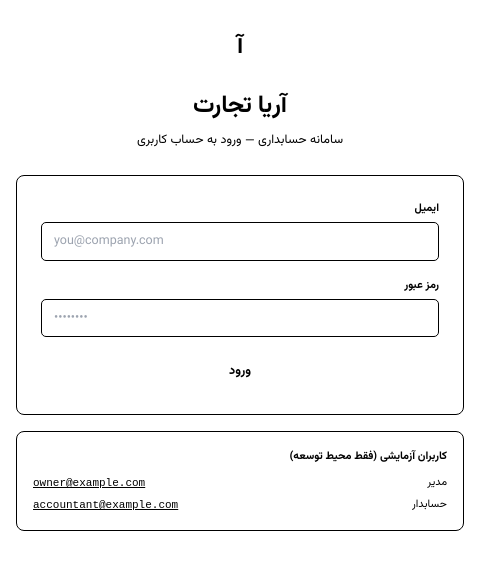
Scenario: login page › shows validation error when fields are empty
Click the button "ورود" at {"x": 240, "y": 372}, box [41,353,439,390]
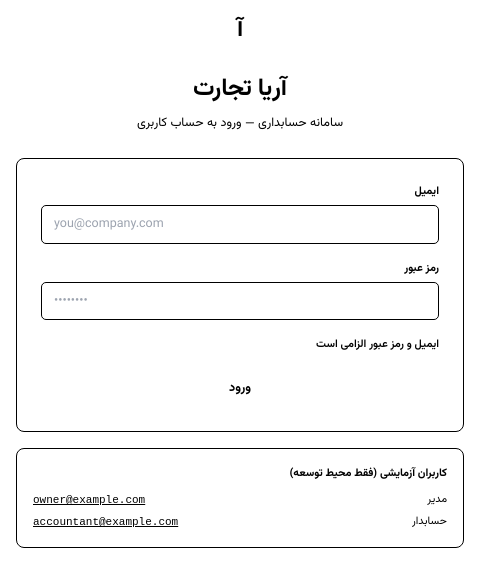
Expected: the message reads "ایمیل و رمز عبور الزامی است", [316,336,439,353]
